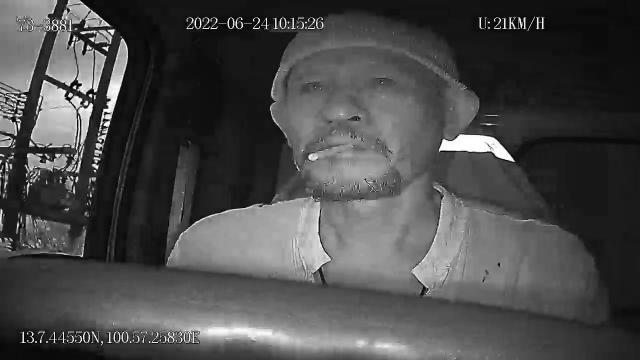SafeDriving: (290, 70, 338, 99)
Smoking: (304, 144, 354, 162)
